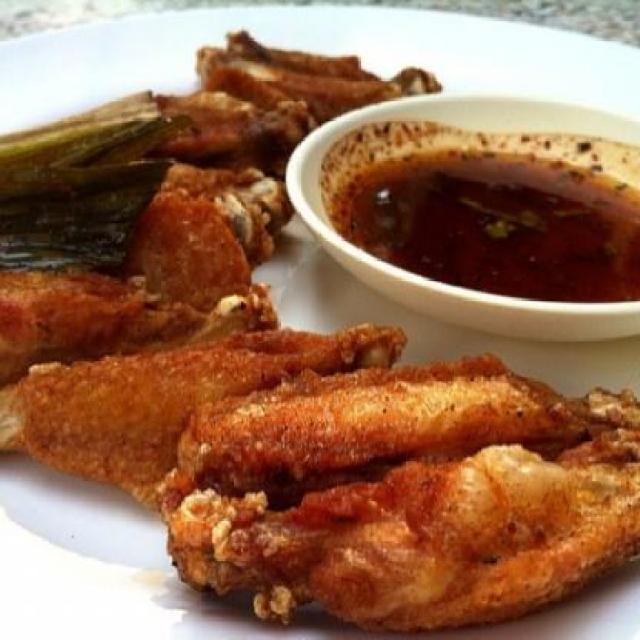Deep fried chicken wing: (19, 314, 638, 637)
